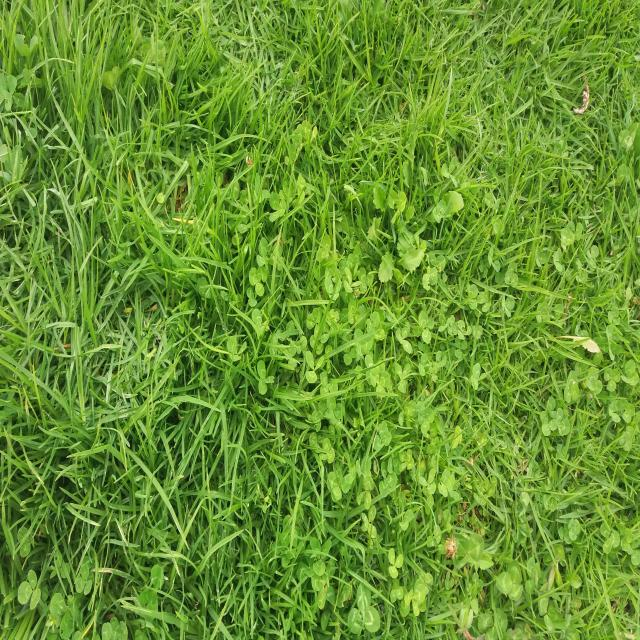Four Leaf Clover: (399, 449, 414, 472)
